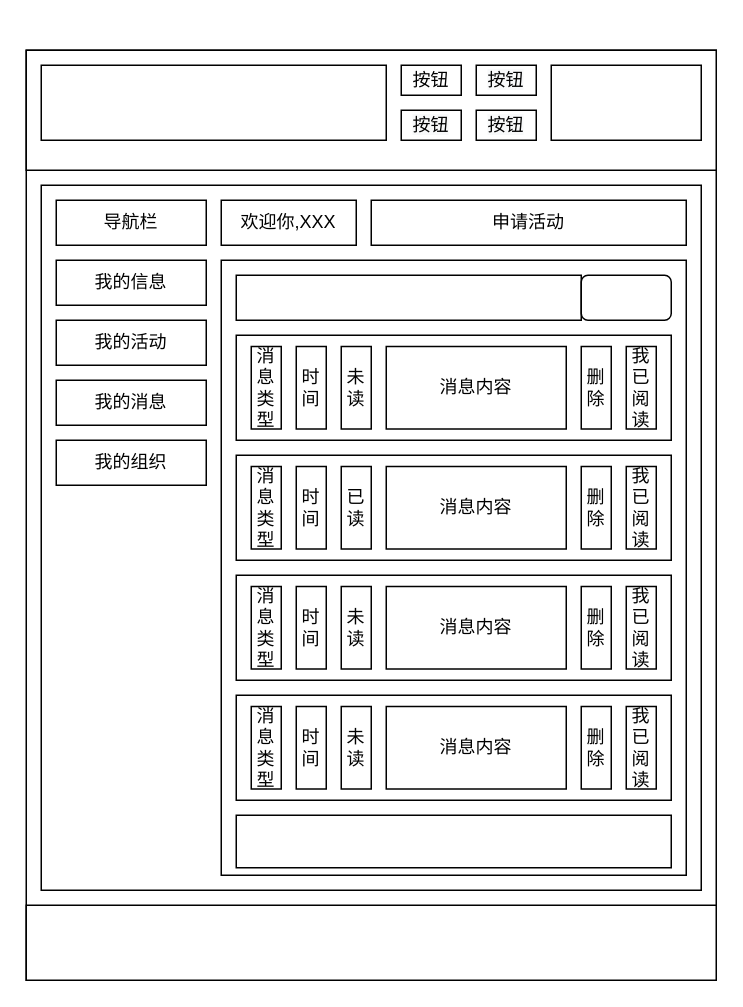
This 743x1007 diagram has some shape labels left out. Here are the shapes that lost their labels. From the top down, the centre of each, then its label:
At point 213,102: "网站标题（文字+图片）".
At point 625,102: "当前登录学生信息显示（跳转主页）".
At point 625,297: "搜索".
At point 453,841: "分页页码".
At point 370,942: "底部导航栏&联系发邮件".
